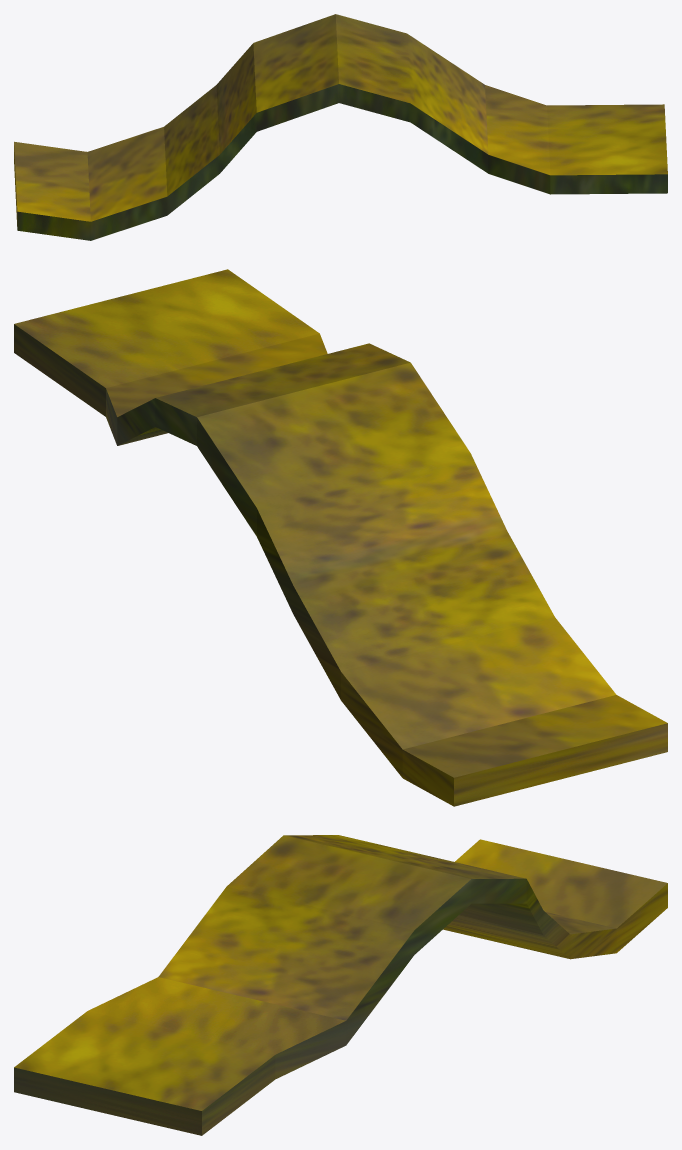
The model's file is MountPass_1.gltf.
3 views of the same model, one above another, from view 1: azimuth 30°, elevation 25°; view 2: azimuth 150°, elevation 25°; view 3: azimuth 270°, elevation 25° (orthographic). The views are drawn at different scales.
Visible parts, largest first — view 1: MountPass_1; view 2: MountPass_1; view 3: MountPass_1.
Part boxes in pixels (x1,y1,x2,y2): MountPass_1: (14, 14, 667, 240); MountPass_1: (14, 269, 667, 806); MountPass_1: (14, 835, 667, 1135).
Bounding box in the file's own units: 33.34 × 8.91 × 26.97.
Materials: 1 (1 with a texture image).
